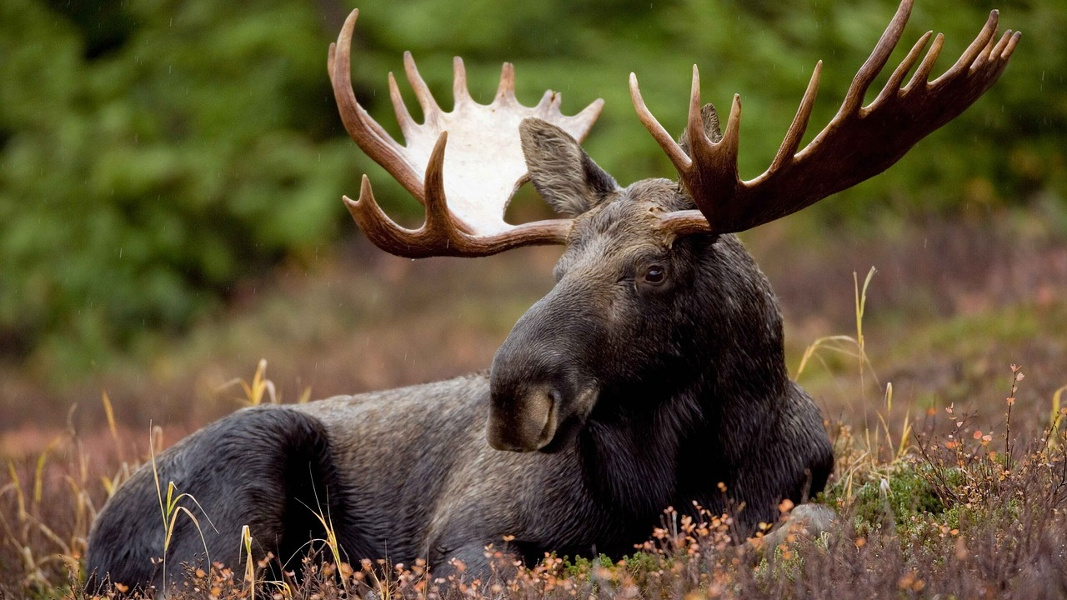moose: (303, 7, 1026, 464)
